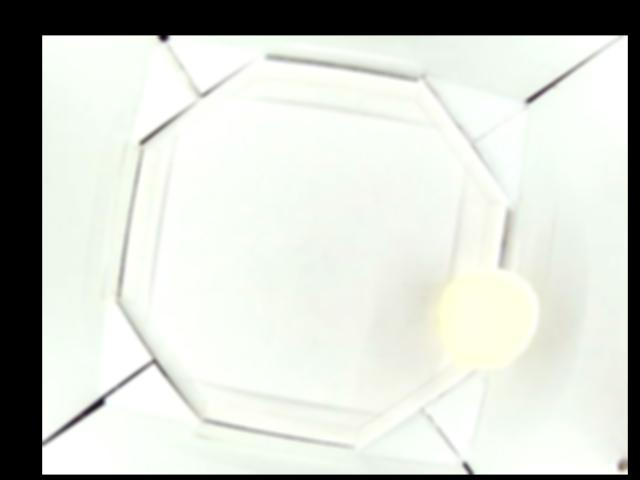Mooli: (436, 269, 539, 368)
